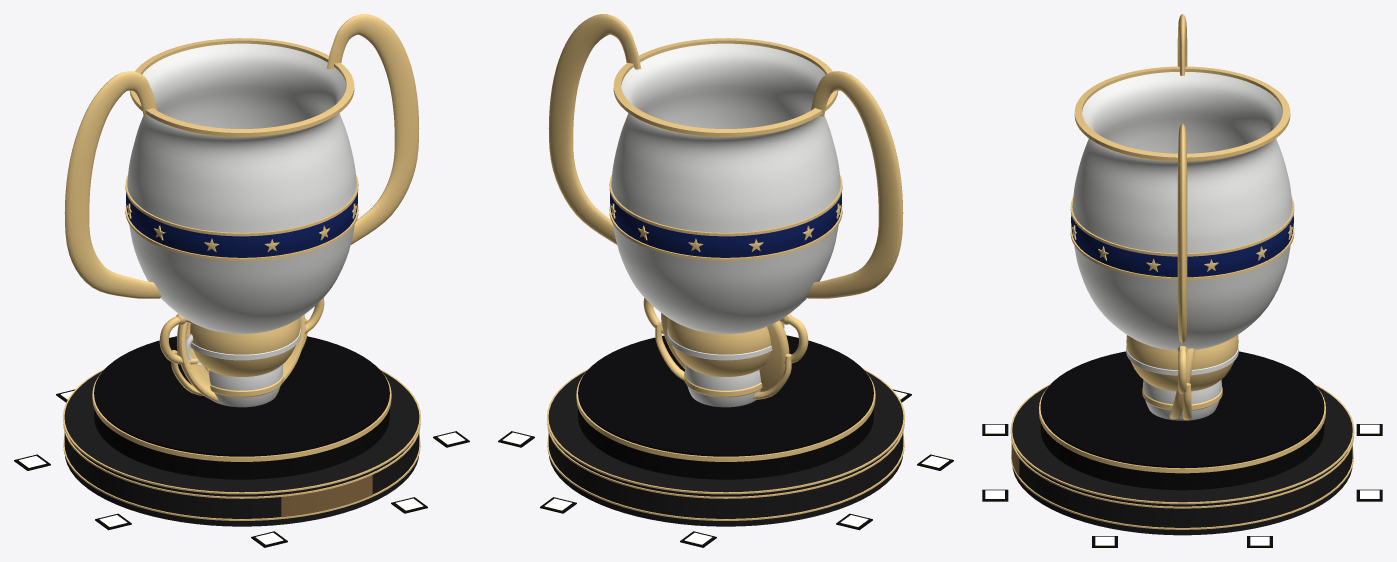
File: trophies.glb
3 renders of one model, left to right at view 1: azimuth 30°, elevation 25°; view 2: azimuth 150°, elevation 25°; view 3: azimuth 270°, elevation 25°, orthographic. The views are drawn at different scales.
Visible parts, largest first — view 1: trophy_c1__silver, trophy_plinthc1__black, trophy_c1__gold, trophy_plinthc1__granite, trophy_plinthc1__gold, trophy_c1__enamel, trophy_cup__gold, trophy_league3__gold, trophy_plaquec1__plaque, trophy_league2__silver, trophy_uplights__uplight, trophy_uplights__black (+2 smaller); view 2: trophy_c1__silver, trophy_plinthc1__black, trophy_c1__gold, trophy_plinthc1__granite, trophy_plinthc1__gold, trophy_c1__enamel, trophy_cup__gold, trophy_league3__gold, trophy_league2__silver, trophy_uplights__uplight, trophy_uplights__black, trophy_cup__silver (+1 smaller); view 3: trophy_c1__silver, trophy_plinthc1__black, trophy_plinthc1__granite, trophy_c1__gold, trophy_plinthc1__gold, trophy_c1__enamel, trophy_cup__gold, trophy_league2__silver, trophy_uplights__uplight, trophy_uplights__black, trophy_league3__gold, trophy_cup__silver.
Boxes of the visible parts, bbox=[...] form: trophy_c1__silver: bbox=[127, 43, 356, 333]; trophy_plinthc1__black: bbox=[94, 336, 389, 479]; trophy_c1__gold: bbox=[64, 14, 419, 298]; trophy_plinthc1__granite: bbox=[64, 371, 419, 526]; trophy_plinthc1__gold: bbox=[63, 368, 420, 520]; trophy_c1__enamel: bbox=[126, 192, 357, 257]; trophy_cup__gold: bbox=[159, 298, 324, 376]; trophy_league3__gold: bbox=[171, 314, 307, 402]; trophy_plaquec1__plaque: bbox=[281, 475, 372, 517]; trophy_league2__silver: bbox=[209, 364, 282, 407]; trophy_uplights__uplight: bbox=[18, 391, 464, 544]; trophy_uplights__black: bbox=[14, 389, 469, 547]; trophy_c1__silver: bbox=[611, 43, 840, 333]; trophy_plinthc1__black: bbox=[578, 335, 873, 479]; trophy_c1__gold: bbox=[548, 14, 903, 298]; trophy_plinthc1__granite: bbox=[548, 371, 903, 526]; trophy_plinthc1__gold: bbox=[547, 368, 904, 520]; trophy_c1__enamel: bbox=[610, 192, 841, 257]; trophy_cup__gold: bbox=[643, 298, 808, 376]; trophy_league3__gold: bbox=[655, 313, 791, 399]; trophy_league2__silver: bbox=[685, 364, 760, 407]; trophy_uplights__uplight: bbox=[503, 391, 949, 544]; trophy_uplights__black: bbox=[498, 389, 953, 547]; trophy_cup__silver: bbox=[667, 329, 784, 360]; trophy_c1__silver: bbox=[1072, 72, 1292, 350]; trophy_plinthc1__black: bbox=[1040, 351, 1324, 490]; trophy_plinthc1__granite: bbox=[1012, 385, 1352, 535]; trophy_c1__gold: bbox=[1070, 14, 1294, 343]; trophy_plinthc1__gold: bbox=[1010, 383, 1354, 529]; trophy_c1__enamel: bbox=[1071, 215, 1293, 277]; trophy_cup__gold: bbox=[1126, 335, 1238, 393]; trophy_league2__silver: bbox=[1143, 379, 1221, 420]; trophy_uplights__uplight: bbox=[985, 424, 1379, 545]; trophy_uplights__black: bbox=[982, 424, 1382, 547]; trophy_league3__gold: bbox=[1169, 348, 1195, 420]; trophy_cup__silver: bbox=[1126, 345, 1238, 375].
Bounding box in the file's own units: 9.88 × 10.67 × 9.88.
Materials: 7 (1 with a texture image).
